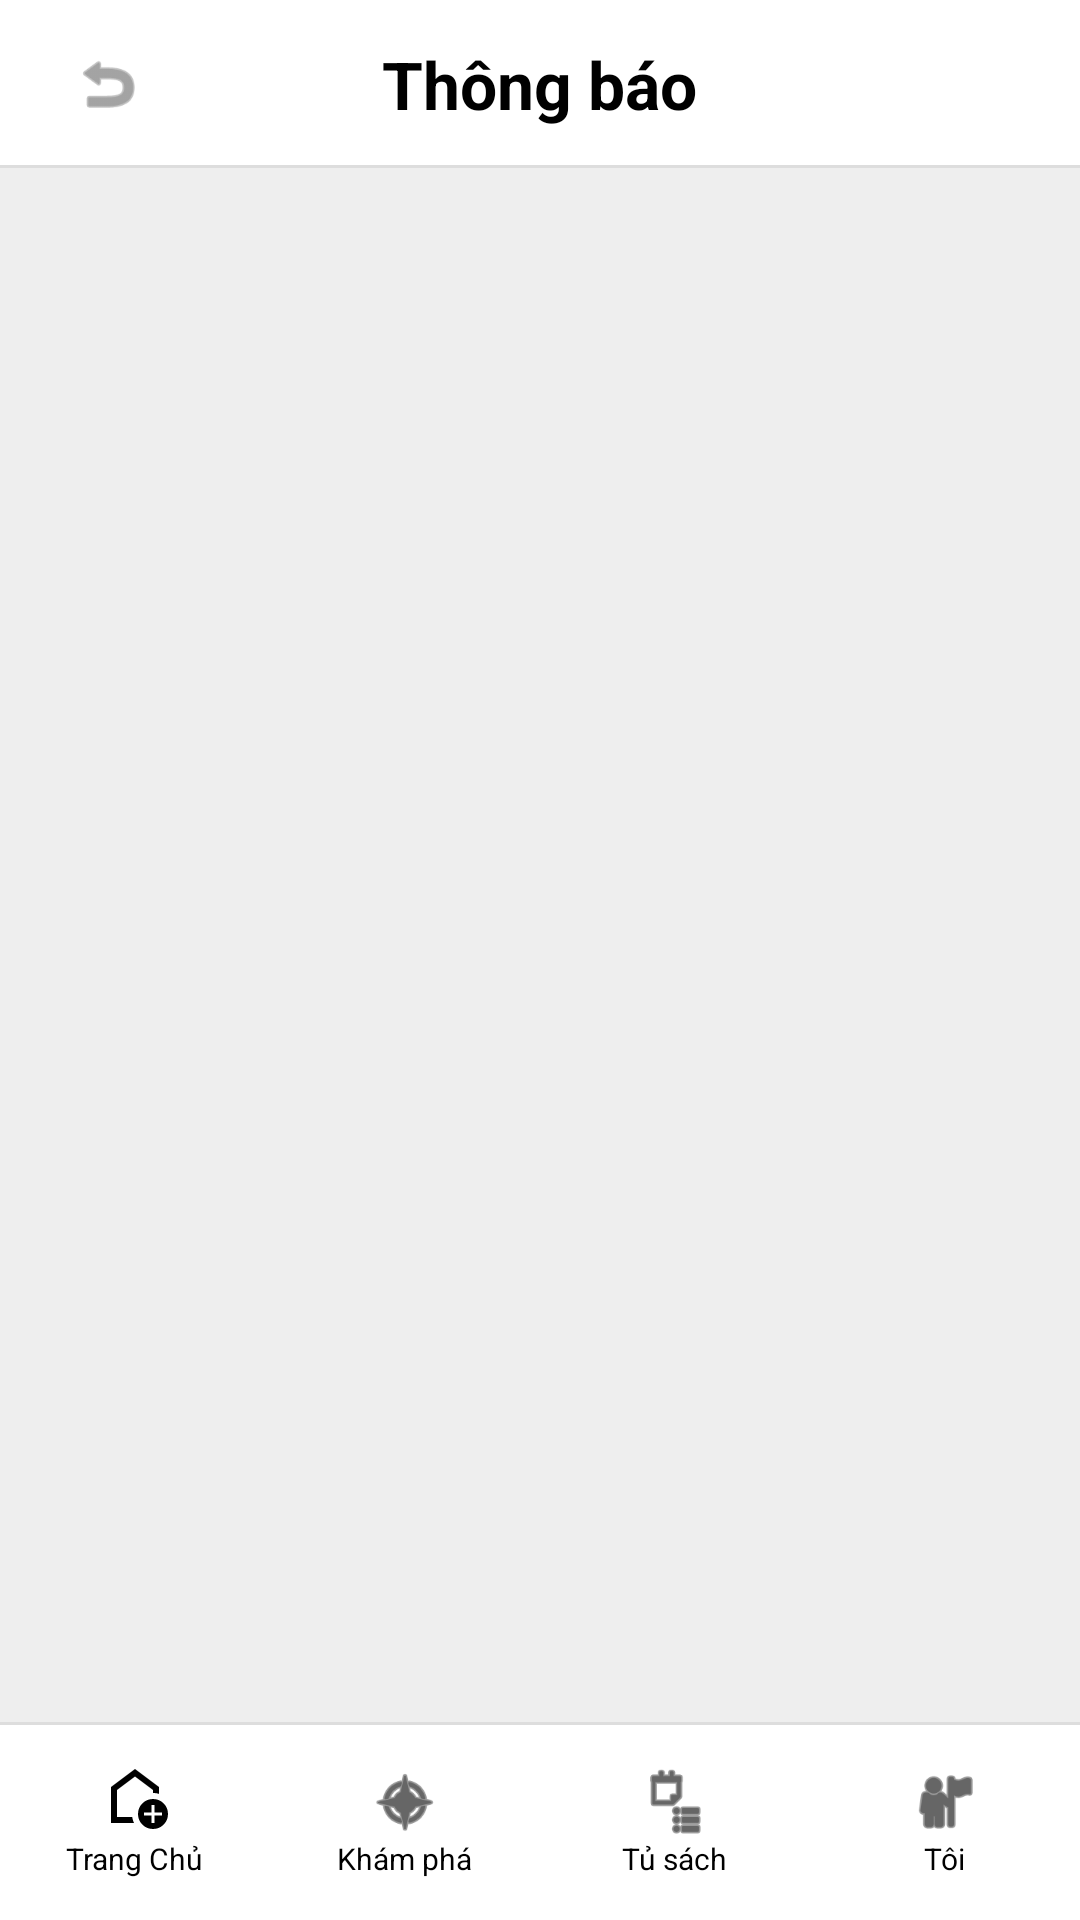

Named icons in this screenshot (1080×1920) and their bounding boxes, (x1, y1, x2, y2):
agenda: (650, 1770, 701, 1834)
compass: (376, 1774, 433, 1831)
myplaces: (919, 1775, 973, 1829)
revert: (83, 61, 135, 108)
